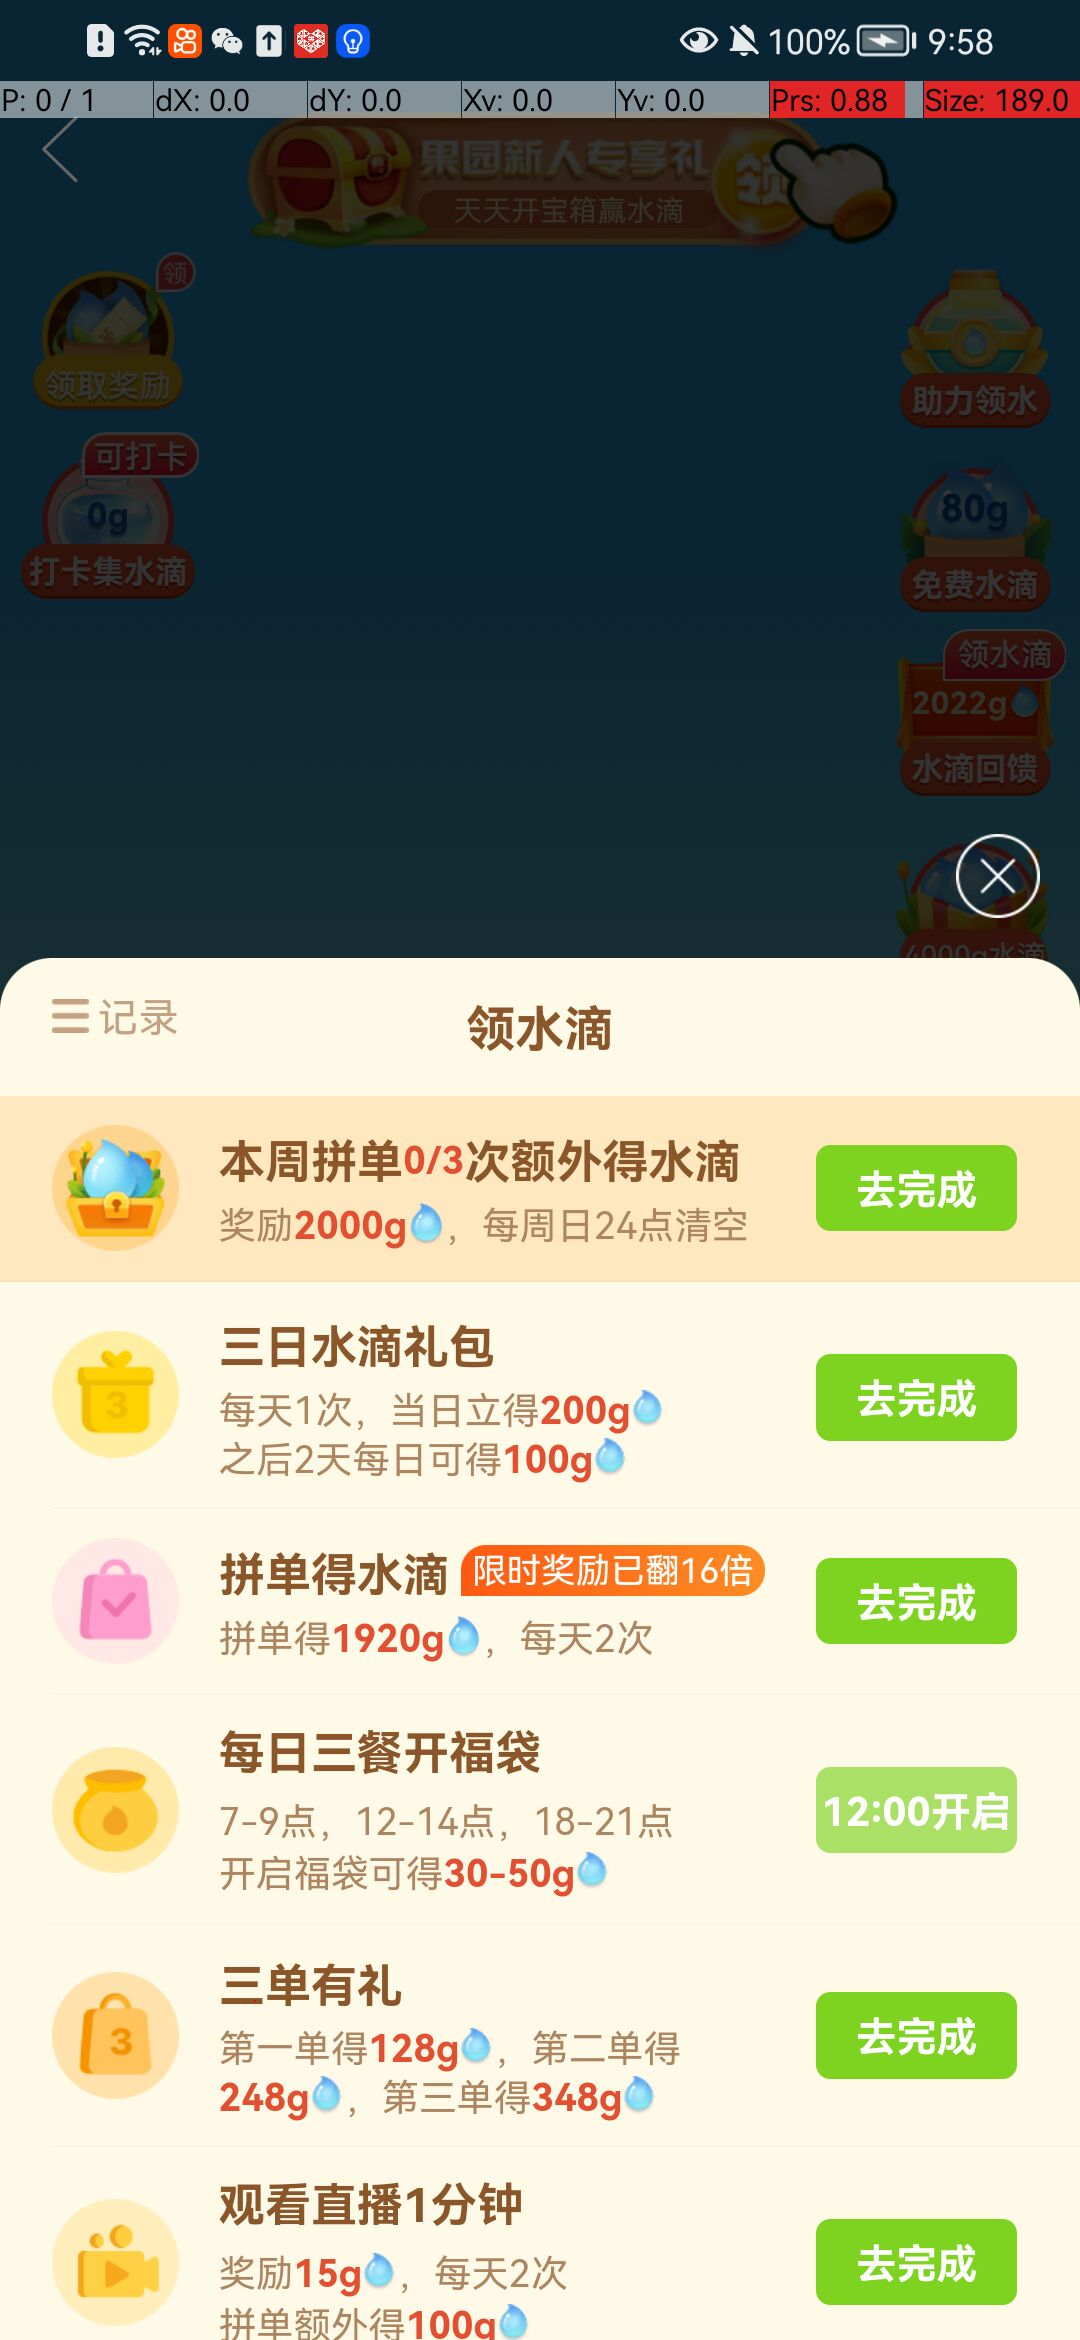popup: (949, 836, 1038, 916)
